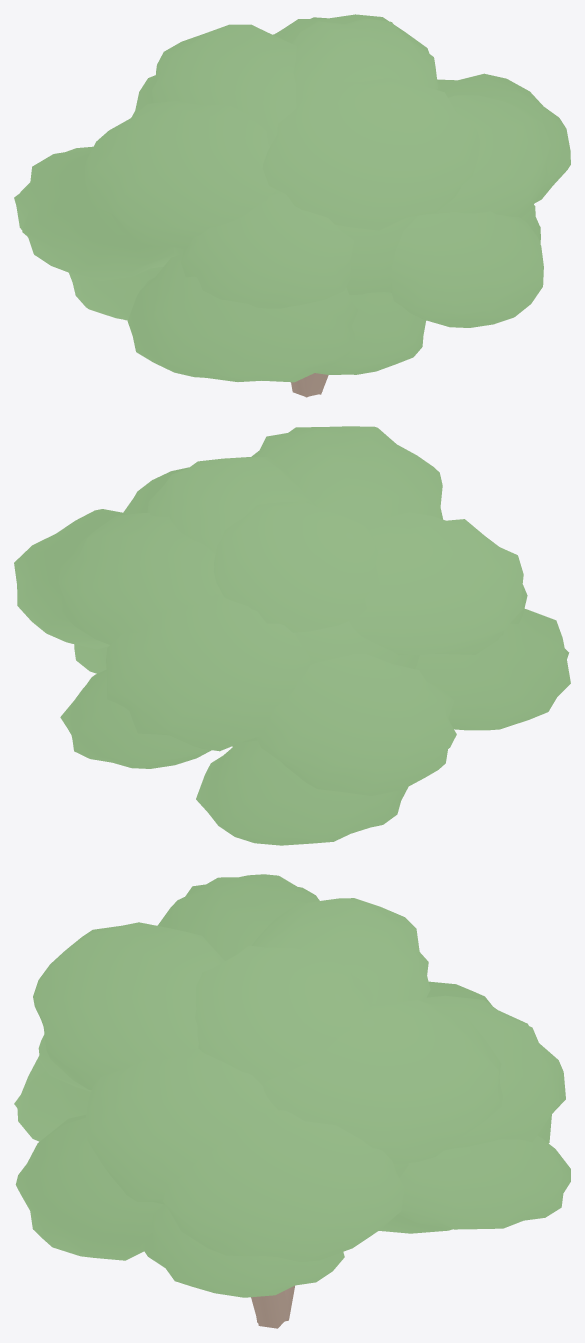
File: Blender_Shrub_3.glb
The picture shows the model from 3 angles, top to bottom: view 1: azimuth 30°, elevation 25°; view 2: azimuth 150°, elevation 25°; view 3: azimuth 270°, elevation 25°; orthographic projection. The views are drawn at different scales.
Visible parts, largest first — view 1: Blender_Shrub_3; view 2: Blender_Shrub_3; view 3: Blender_Shrub_3.
Boxes of the visible parts, x1,y1,x2,y2 form: Blender_Shrub_3: (14, 14, 570, 397); Blender_Shrub_3: (14, 426, 570, 845); Blender_Shrub_3: (14, 874, 570, 1328).
Size of the model in its own units: 2.88 by 2 by 2.58.
